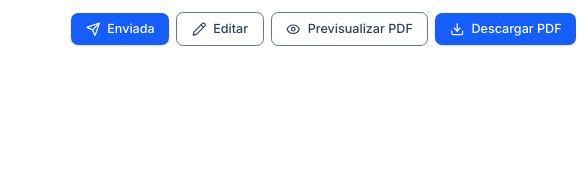
Test: QuotationDetailActions › avisa si el navegador bloquea la pestaña de previsualización
The image size is (588, 172).
Step 1. Click the button "Previsualizar PDF" → (349, 29), box x1=271 y1=12 x2=428 y2=46
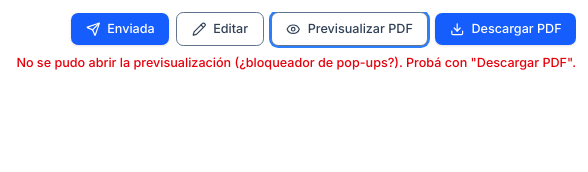
Now the message shows "bloqueador de pop-ups", box x1=16 y1=54 x2=576 y2=70
